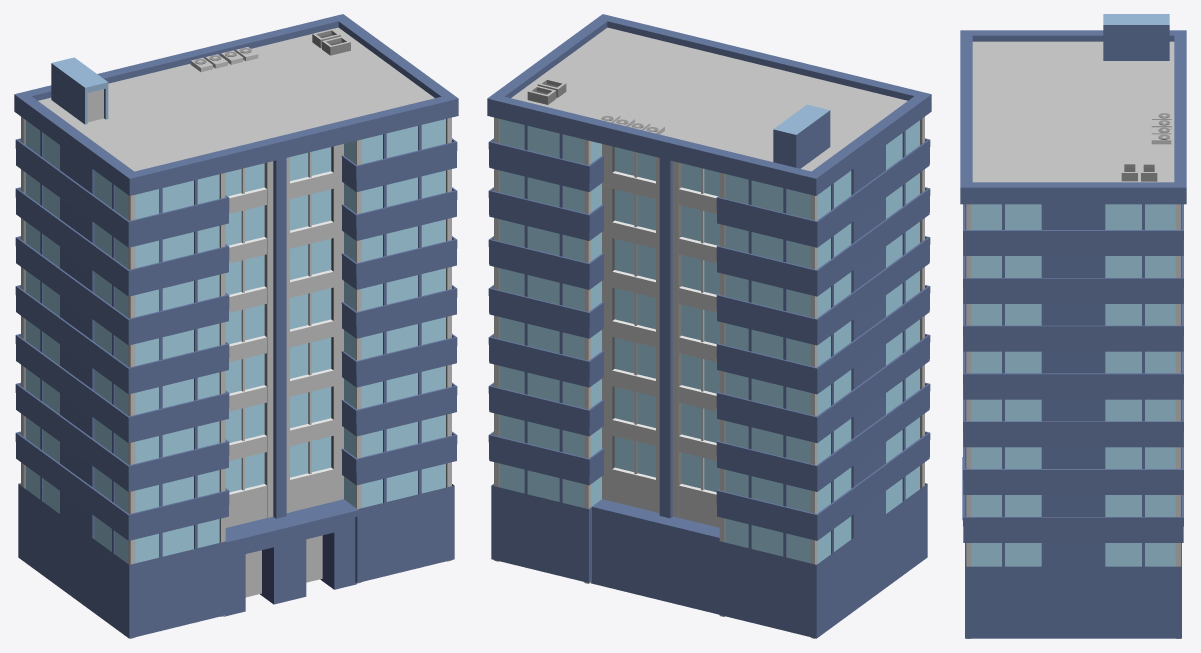
The model's file is house_high_004.glb.
3 views of the same model, side by side, from view 1: azimuth 30°, elevation 25°; view 2: azimuth 150°, elevation 25°; view 3: azimuth 270°, elevation 25° (orthographic). The views are drawn at different scales.
Parts seen in each view (by area): view 1: house_high_004; view 2: house_high_004; view 3: house_high_004.
Boxes of the visible parts, x1,y1,x2,y2 form: house_high_004: (14, 14, 458, 638); house_high_004: (487, 14, 931, 638); house_high_004: (960, 14, 1186, 638).
Size of the model in its own units: 15.24 by 21.94 by 9.27.
1 material, 1 textured.
